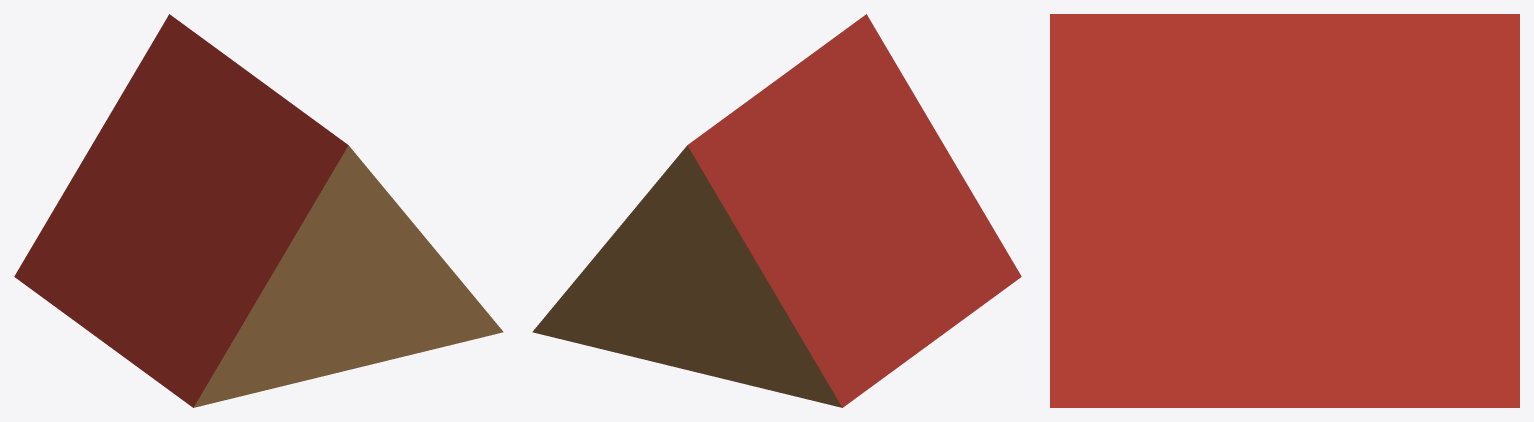
The model's file is Park_Block_Roof.fbx.
The picture shows the model from 3 angles, left to right: view 1: azimuth 30°, elevation 25°; view 2: azimuth 150°, elevation 25°; view 3: azimuth 270°, elevation 25°; orthographic projection. The views are drawn at different scales.
Parts seen in each view (by area): view 1: Park_Block_Roof; view 2: Park_Block_Roof; view 3: Park_Block_Roof.
Boxes of the visible parts, bbox=[...] form: Park_Block_Roof: bbox=[14, 14, 503, 407]; Park_Block_Roof: bbox=[532, 14, 1021, 407]; Park_Block_Roof: bbox=[1050, 14, 1519, 407].
Bounding box in the file's own units: 2.6 × 1.8 × 2.6.
